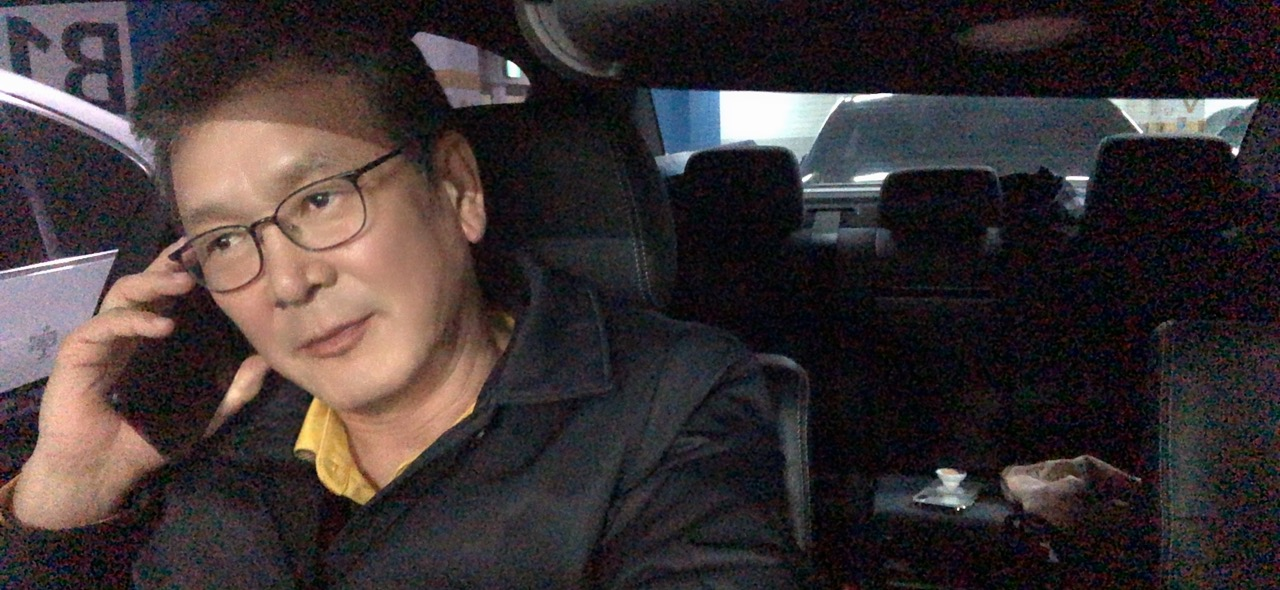phone: (6, 1, 807, 590)
